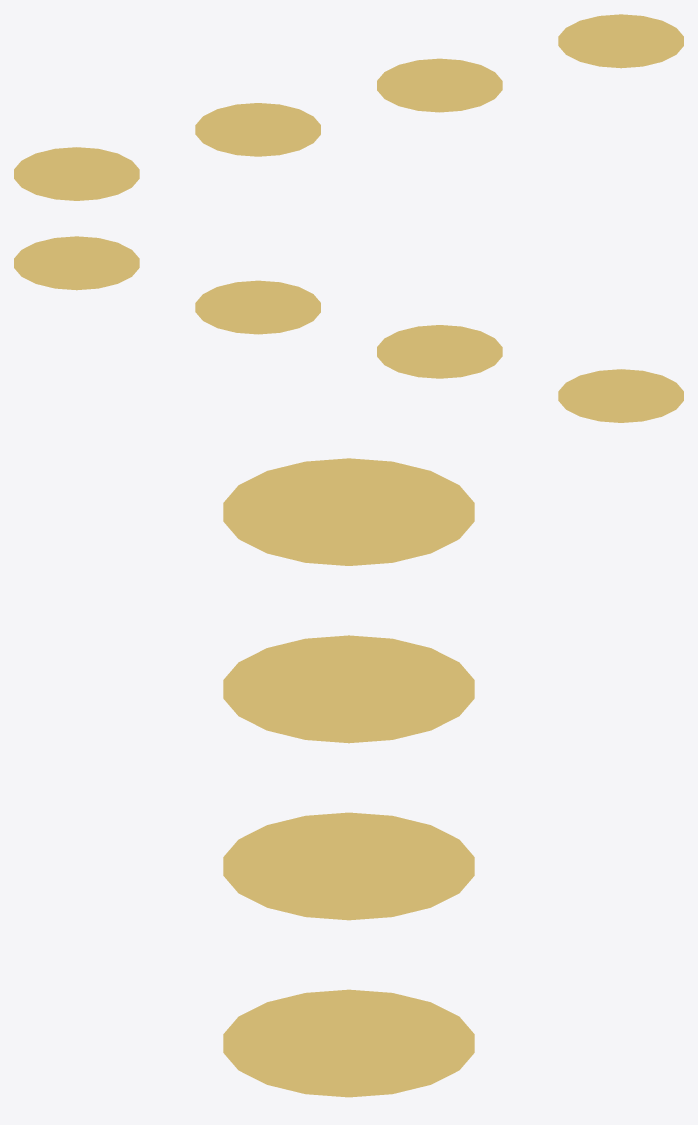
Rendered from 60_L96_Strain_Bridge_CalibrationPads.glb.
3 renders of one model, top to bottom at view 1: azimuth 30°, elevation 25°; view 2: azimuth 150°, elevation 25°; view 3: azimuth 270°, elevation 25°, orthographic. The views are drawn at different scales.
Visible parts, largest first — view 1: L96_Strain_Bridge_CalibrationPads_003_Manufacturing_Contact, L96_Strain_Bridge_CalibrationPads_002_Manufacturing_Contact, L96_Strain_Bridge_CalibrationPads_001_Manufacturing_Contact, L96_Strain_Bridge_CalibrationPads_000_Manufacturing_Contact; view 2: L96_Strain_Bridge_CalibrationPads_003_Manufacturing_Contact, L96_Strain_Bridge_CalibrationPads_002_Manufacturing_Contact, L96_Strain_Bridge_CalibrationPads_001_Manufacturing_Contact, L96_Strain_Bridge_CalibrationPads_000_Manufacturing_Contact; view 3: L96_Strain_Bridge_CalibrationPads_000_Manufacturing_Contact, L96_Strain_Bridge_CalibrationPads_001_Manufacturing_Contact, L96_Strain_Bridge_CalibrationPads_002_Manufacturing_Contact, L96_Strain_Bridge_CalibrationPads_003_Manufacturing_Contact.
Boxes of the visible parts, x1,y1,x2,y2 form: L96_Strain_Bridge_CalibrationPads_003_Manufacturing_Contact: (558,14,683,68); L96_Strain_Bridge_CalibrationPads_002_Manufacturing_Contact: (377,58,502,112); L96_Strain_Bridge_CalibrationPads_001_Manufacturing_Contact: (195,103,320,156); L96_Strain_Bridge_CalibrationPads_000_Manufacturing_Contact: (14,147,139,200); L96_Strain_Bridge_CalibrationPads_003_Manufacturing_Contact: (14,236,139,290); L96_Strain_Bridge_CalibrationPads_002_Manufacturing_Contact: (195,280,320,334); L96_Strain_Bridge_CalibrationPads_001_Manufacturing_Contact: (377,325,502,378); L96_Strain_Bridge_CalibrationPads_000_Manufacturing_Contact: (558,369,683,422); L96_Strain_Bridge_CalibrationPads_000_Manufacturing_Contact: (223,458,474,565); L96_Strain_Bridge_CalibrationPads_001_Manufacturing_Contact: (223,635,474,743); L96_Strain_Bridge_CalibrationPads_002_Manufacturing_Contact: (223,812,474,920); L96_Strain_Bridge_CalibrationPads_003_Manufacturing_Contact: (223,989,474,1097).
Size of the model in its own units: 0.0083 by 8e-05 by 0.00138.
